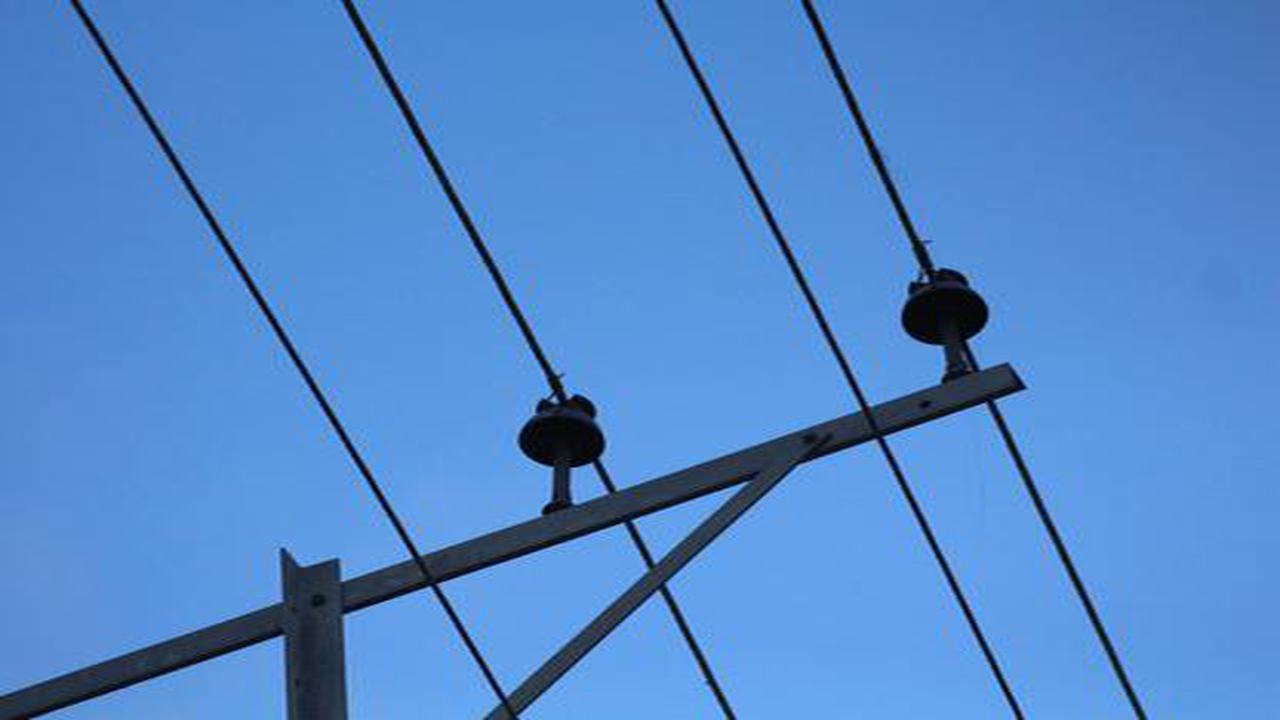insulator_pin: (891, 256, 996, 356), (511, 384, 613, 474)
